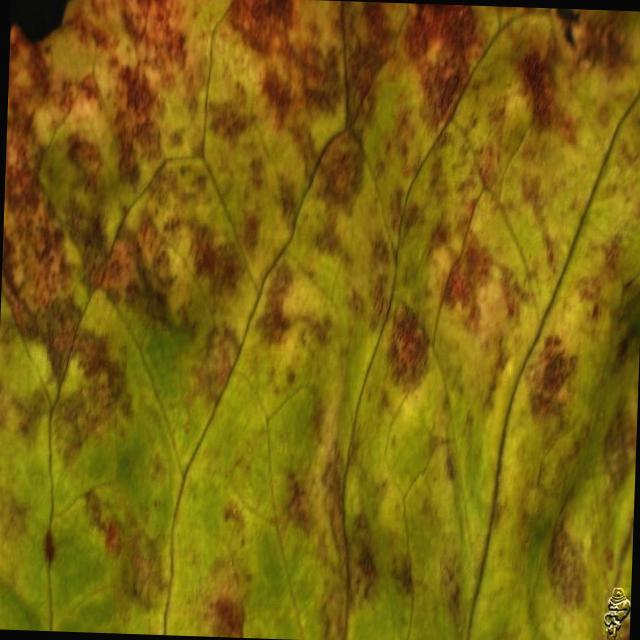Septoria_Blight: (0, 8, 627, 543)
